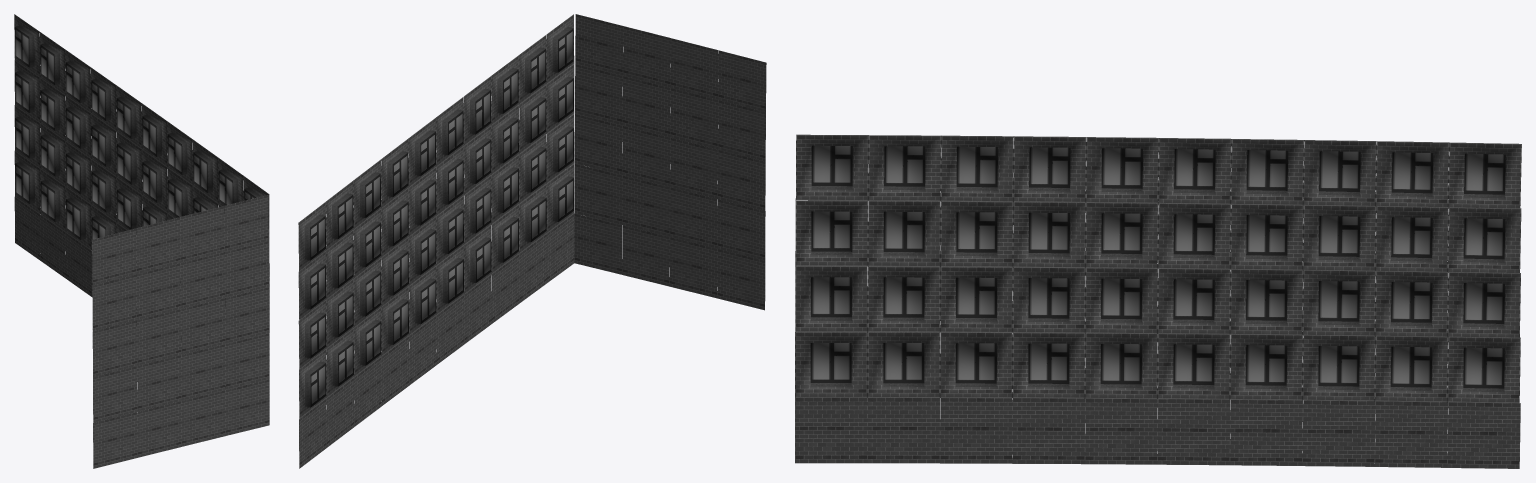
Rendered from House.fbx.
3 views of the same model, side by side, from view 1: azimuth 30°, elevation 25°; view 2: azimuth 150°, elevation 25°; view 3: azimuth 270°, elevation 25° (orthographic). The views are drawn at different scales.
Visible parts, largest first — view 1: Wall, Fasad; view 2: Fasad, Wall; view 3: Fasad.
Part boxes in pixels (box(x1,y1,x2,y2)): Wall: box(92, 195, 269, 468); Fasad: box(14, 14, 269, 387); Fasad: box(298, 14, 574, 468); Wall: box(574, 14, 766, 310); Fasad: box(795, 134, 1521, 468).
Bounding box in the file's own units: 1209 × 1527 × 3009.
